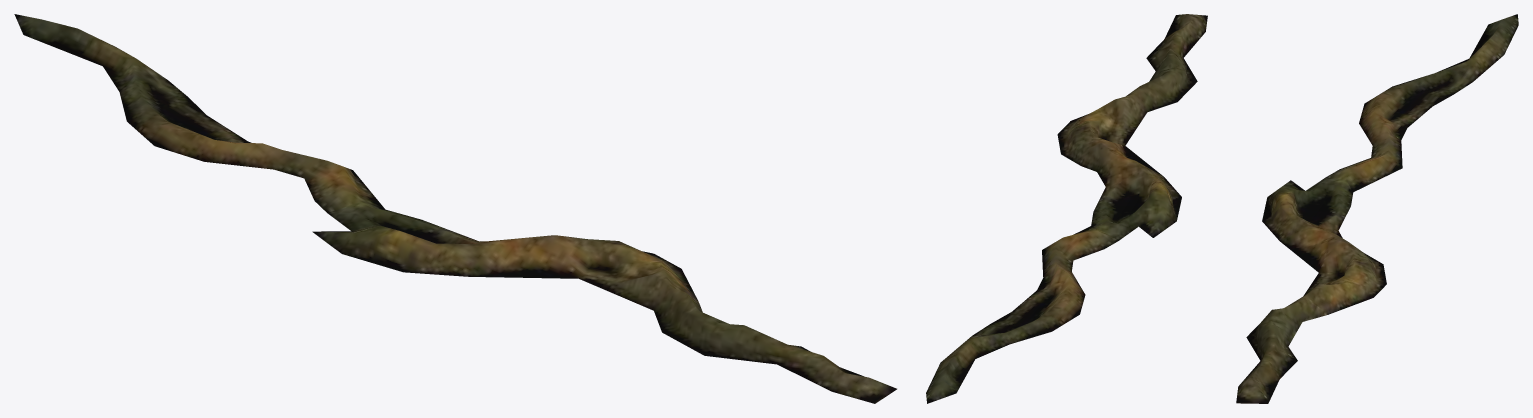
Rendered from Biomass - 17-CUltROxL.glb.
The picture shows the model from 3 angles, left to right: view 1: azimuth 30°, elevation 25°; view 2: azimuth 150°, elevation 25°; view 3: azimuth 330°, elevation 25°; orthographic projection. The views are drawn at different scales.
Parts seen in each view (by area): view 1: Biomass_17; view 2: Biomass_17; view 3: Biomass_17.
Part boxes in pixels (box(x1,y1,x2,y2)): Biomass_17: box(14, 14, 896, 403); Biomass_17: box(926, 14, 1207, 403); Biomass_17: box(1236, 14, 1518, 403).
Bounding box in the file's own units: 1.09 × 0.0856 × 3.76.
Materials: 1 (1 with a texture image).
